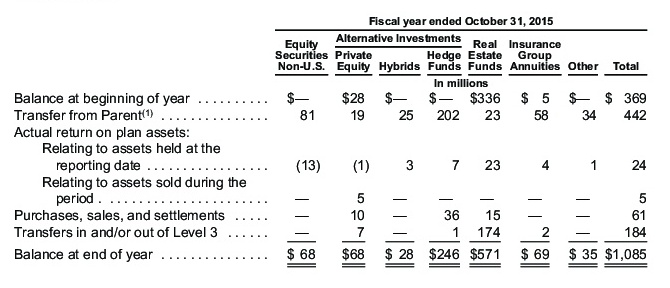table: (0, 0, 670, 288)
